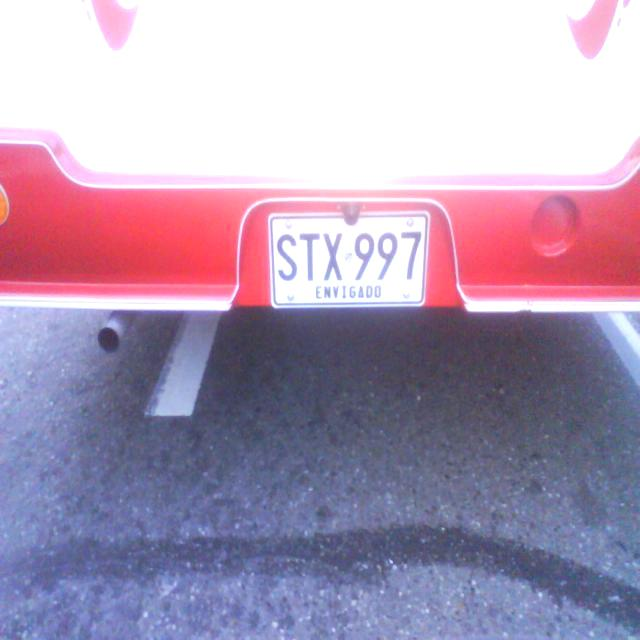placa: (266, 207, 432, 311)
